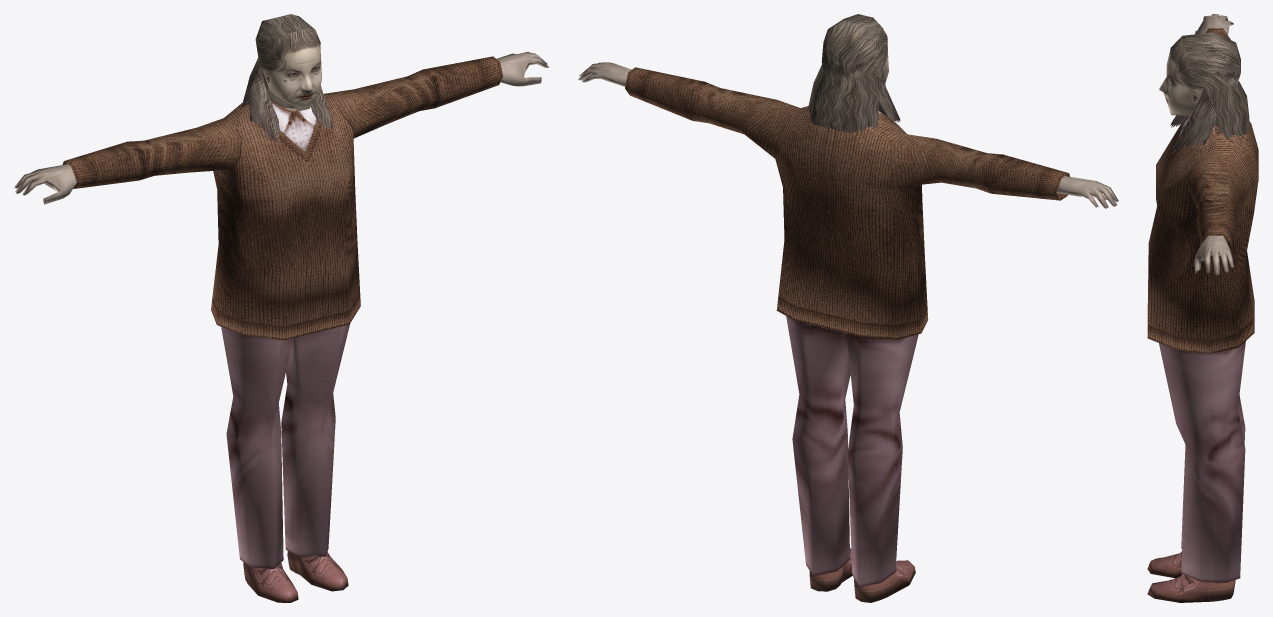
The model's file is LESLEY.dae.
The picture shows the model from 3 angles, left to right: view 1: azimuth 30°, elevation 25°; view 2: azimuth 150°, elevation 25°; view 3: azimuth 270°, elevation 25°; orthographic projection. The views are drawn at different scales.
Parts seen in each view (by area): view 1: Body; view 2: Body; view 3: Body.
Boxes of the visible parts, bbox=[...] form: Body: bbox=[14, 14, 548, 602]; Body: bbox=[578, 14, 1118, 602]; Body: bbox=[1147, 14, 1258, 602].
Bounding box in the file's own units: 16.11 × 16.22 × 2.98.
Materials: 10 (10 with a texture image).
